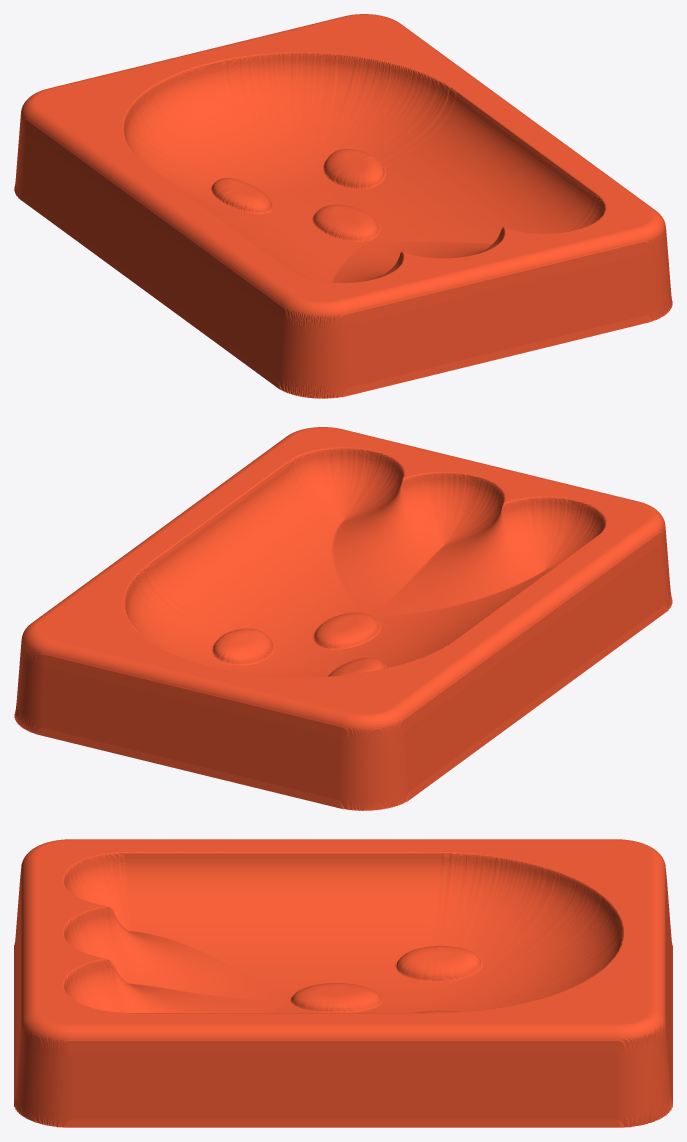
File: mold.glb
3 renders of one model, top to bottom at view 1: azimuth 30°, elevation 25°; view 2: azimuth 150°, elevation 25°; view 3: azimuth 270°, elevation 25°, orthographic. The views are drawn at different scales.
Visible parts, largest first — view 1: geometry_0; view 2: geometry_0; view 3: geometry_0.
Part boxes in pixels (x1=…): geometry_0: x1=14, y1=14, x2=672, y2=398; geometry_0: x1=14, y1=427, x2=672, y2=810; geometry_0: x1=14, y1=839, x2=672, y2=1127.
Bounding box in the file's own units: 0.0764 × 0.0165 × 0.105.
